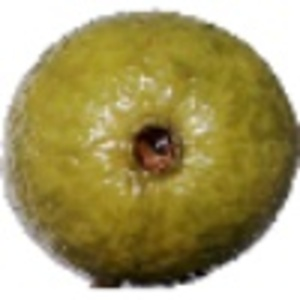goiaba: (4, 5, 294, 282)
